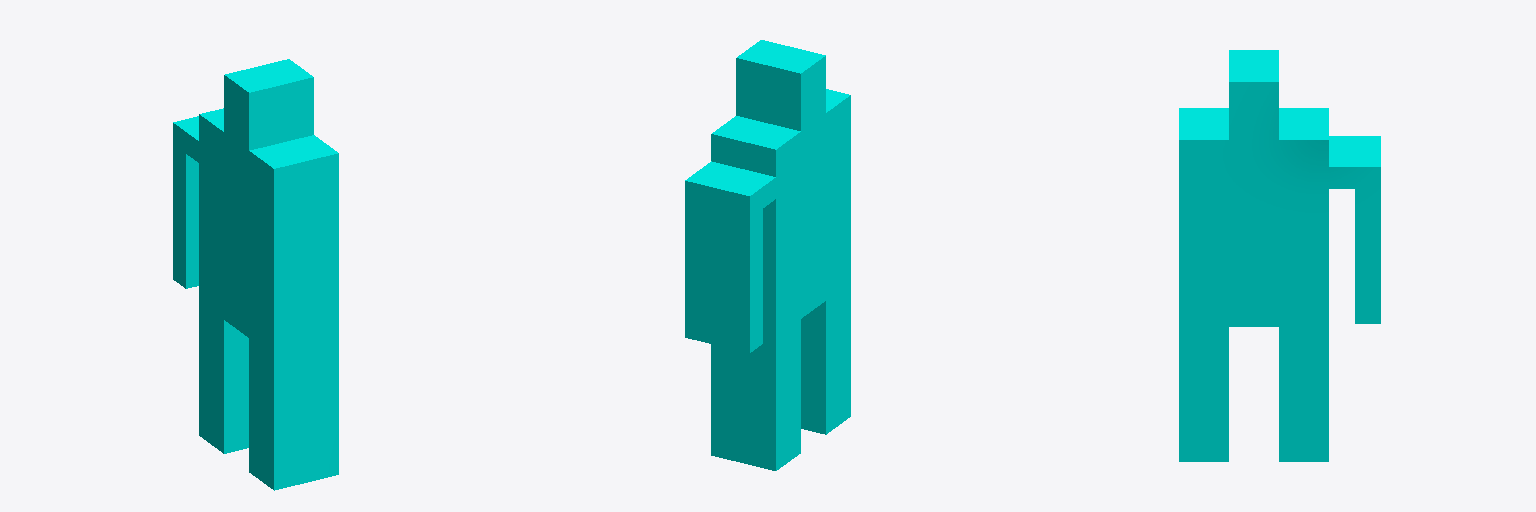
3 views of the same model, side by side, from view 1: azimuth 30°, elevation 25°; view 2: azimuth 150°, elevation 25°; view 3: azimuth 270°, elevation 25° (orthographic).
Visible parts, largest first — view 1: Cube; view 2: Cube; view 3: Cube.
Part boxes in pixels (bbox=[...]): Cube: bbox=[173, 59, 338, 490]; Cube: bbox=[685, 40, 850, 470]; Cube: bbox=[1179, 50, 1380, 461].
Bounding box in the file's own units: 1 × 5.59 × 2.7.
Materials: 1 (1 with a texture image).